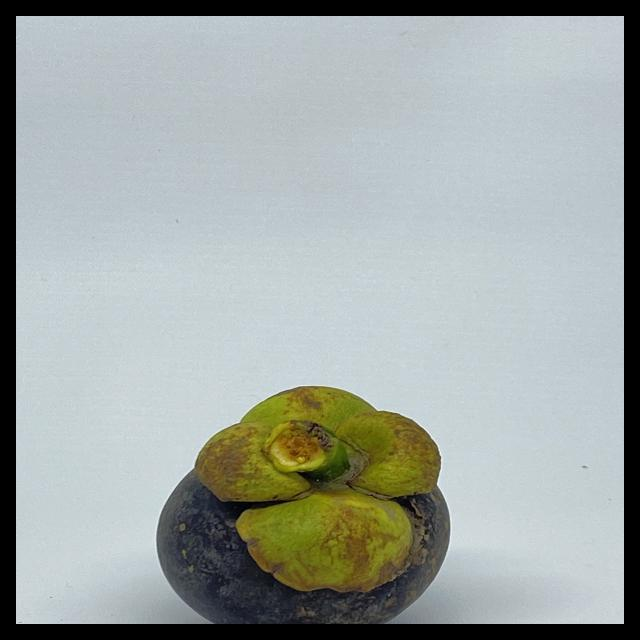mangosteen: (140, 383, 477, 624)
